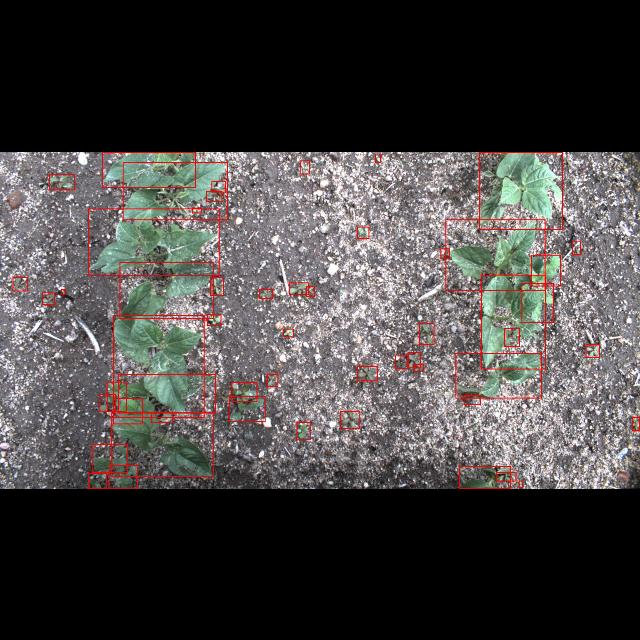crop: (114, 315, 204, 417), (89, 208, 220, 274), (446, 218, 544, 290), (111, 412, 212, 476), (480, 152, 562, 228), (480, 274, 546, 368), (123, 161, 227, 219), (120, 262, 212, 318), (455, 352, 541, 398), (118, 373, 215, 412), (102, 152, 196, 186), (460, 466, 510, 488)
weed: (522, 282, 554, 322), (92, 443, 128, 472), (531, 254, 561, 286), (229, 396, 265, 422), (114, 398, 142, 424), (109, 464, 137, 488), (108, 381, 126, 411), (232, 382, 256, 402), (340, 410, 360, 428), (50, 174, 74, 188), (420, 322, 434, 343), (504, 328, 520, 346), (357, 366, 377, 380), (88, 474, 106, 488), (296, 422, 310, 440), (100, 394, 114, 411), (210, 277, 223, 295), (12, 276, 28, 290), (290, 282, 308, 294), (152, 412, 172, 422), (496, 472, 516, 481), (408, 352, 420, 366), (211, 180, 225, 192), (206, 190, 222, 200), (586, 344, 598, 356), (42, 292, 54, 304), (357, 226, 369, 238), (266, 374, 278, 386), (395, 356, 407, 368), (207, 314, 221, 324), (259, 288, 273, 298), (464, 396, 480, 404), (300, 160, 310, 172), (632, 417, 640, 431), (572, 240, 580, 254), (440, 248, 450, 258), (283, 328, 293, 336), (414, 363, 424, 371), (306, 286, 314, 296), (192, 208, 202, 212), (376, 154, 380, 162), (61, 288, 64, 294), (520, 481, 522, 487)
